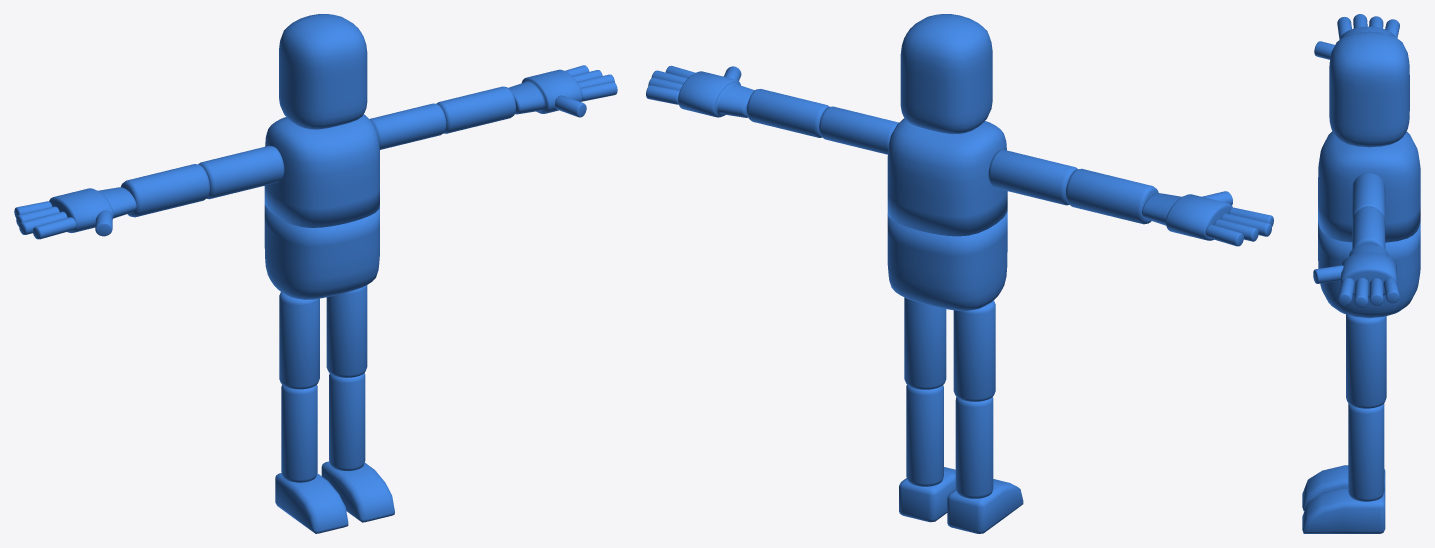
Rendered from Ragdoll_Slap_Character.fbx.
The picture shows the model from 3 angles, left to right: view 1: azimuth 30°, elevation 25°; view 2: azimuth 150°, elevation 25°; view 3: azimuth 270°, elevation 25°; orthographic projection. The views are drawn at different scales.
Visible parts, largest first — view 1: Body_2, Head, Body, Right_Hand_3, Left_Hand_3, Right_Leg_1, Left_Leg_1, Right_Leg_2, Left_Leg_2, Right_Hand_2, Right_Leg_3, Right_Hand_1 (+3 smaller); view 2: Body_2, Head, Body, Right_Hand_3, Left_Hand_3, Right_Leg_1, Right_Leg_2, Left_Leg_2, Left_Leg_1, Right_Hand_2, Right_Hand_1, Right_Leg_3 (+3 smaller); view 3: Head, Body_2, Body, Left_Leg_1, Left_Hand_3, Left_Leg_2, Left_Leg_3, Right_Hand_3, Left_Hand_2, Left_Hand_1, Right_Leg_3.
Boxes of the visible parts, <box> form: Body_2: <box>264,114,379,227</box>; Head: <box>279,14,367,129</box>; Body: <box>264,204,379,299</box>; Right_Hand_3: <box>14,187,136,239</box>; Left_Hand_3: <box>508,65,617,117</box>; Right_Leg_1: <box>279,292,319,389</box>; Left_Leg_1: <box>326,285,367,377</box>; Right_Leg_2: <box>281,385,317,482</box>; Left_Leg_2: <box>329,373,365,470</box>; Right_Hand_2: <box>121,164,209,217</box>; Right_Leg_3: <box>275,473,348,533</box>; Right_Hand_1: <box>198,145,284,199</box>; Body_2: <box>887,118,1007,236</box>; Head: <box>900,14,992,134</box>; Body: <box>887,212,1007,310</box>; Right_Hand_3: <box>1142,191,1273,246</box>; Left_Hand_3: <box>646,65,754,117</box>; Right_Leg_1: <box>953,300,995,401</box>; Right_Leg_2: <box>955,397,993,498</box>; Left_Leg_2: <box>906,385,943,486</box>; Left_Leg_1: <box>904,297,946,389</box>; Right_Hand_2: <box>1066,168,1158,224</box>; Right_Hand_1: <box>988,150,1077,205</box>; Right_Leg_3: <box>947,479,1023,533</box>; Head: <box>1329,31,1409,147</box>; Body_2: <box>1318,131,1420,242</box>; Body: <box>1318,220,1420,318</box>; Left_Leg_1: <box>1346,314,1386,408</box>; Left_Hand_3: <box>1313,245,1399,308</box>; Left_Leg_2: <box>1348,404,1384,501</box>; Left_Leg_3: <box>1302,488,1385,533</box>; Right_Hand_3: <box>1314,14,1399,59</box>; Left_Hand_2: <box>1352,206,1385,249</box>; Left_Hand_1: <box>1352,173,1385,218</box>; Right_Leg_3: <box>1302,465,1385,510</box>.
Size of the model in its own units: 594 by 104 by 462.
